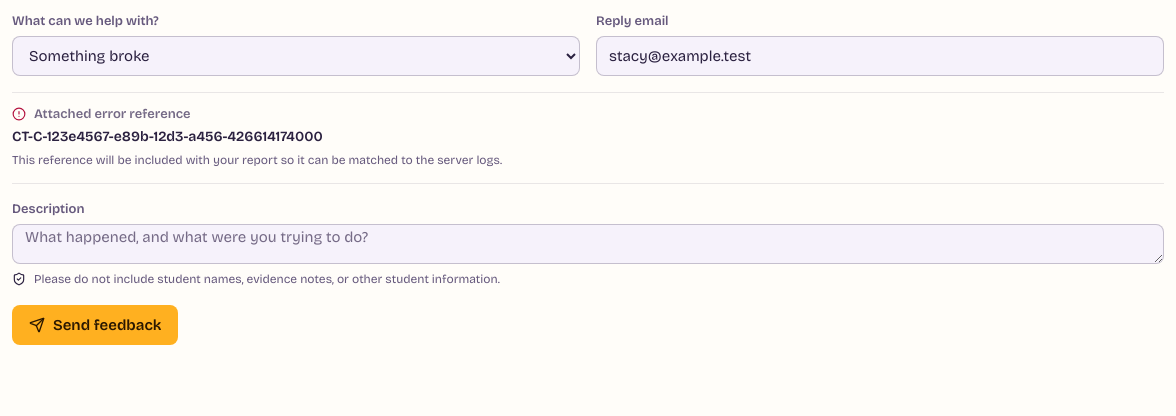
HelpFeedbackForm › preserves an attached reference when delivery fails
Type "The page stopped while I was saving." into the text box labelled "Description".
click(588, 244); type("The page stopped while I was saving.")  # box [12,224,1164,264]
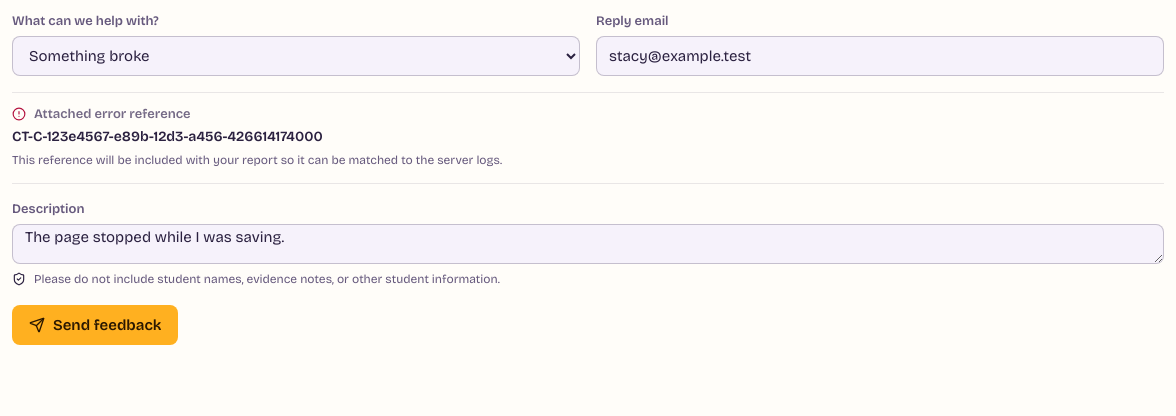
Click the button "Send feedback".
click(95, 325)  # box [12,305,178,345]
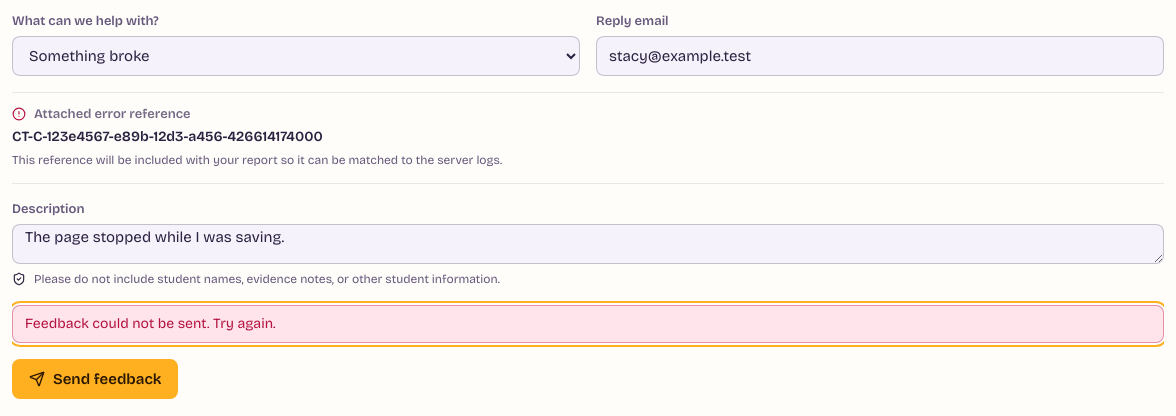
Expected: the text "CT-C-123e4567-e89b-12d3-a456-426614174000" is shown, [12,128,323,145]
Expected: the message reads "Feedback could not be sent. Try again.", [25,315,276,332]
